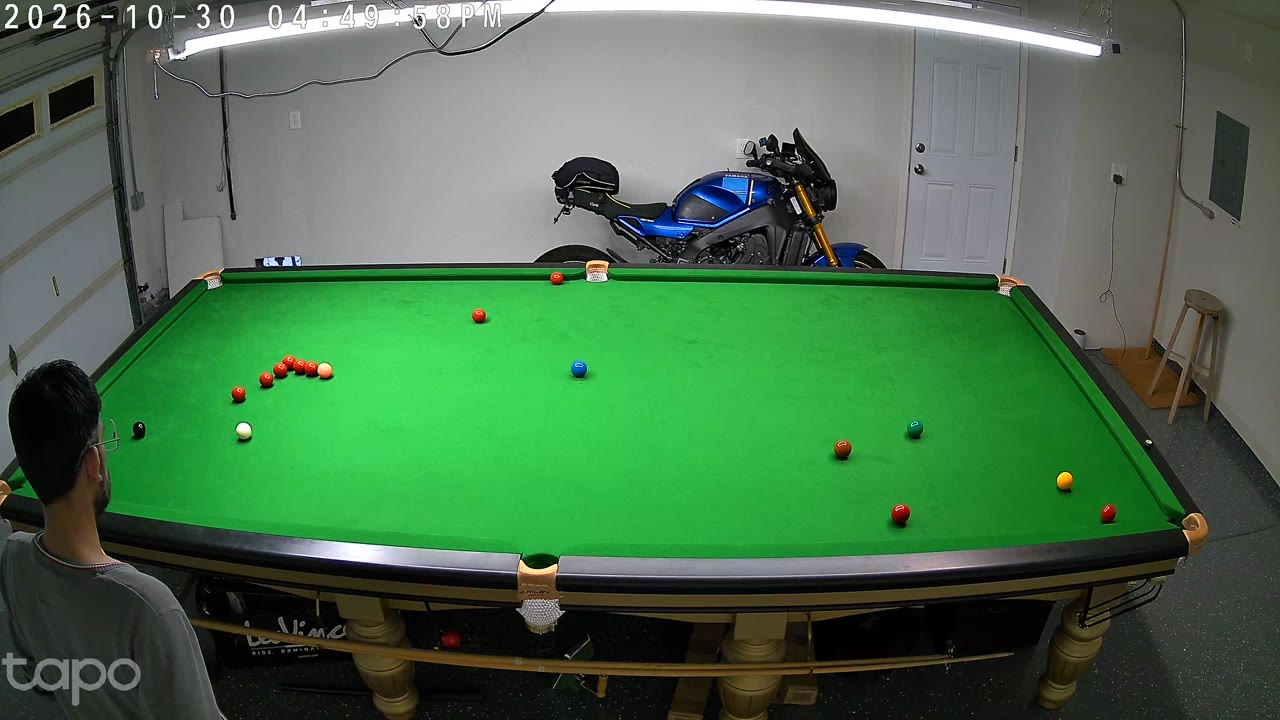black: (133, 420, 145, 440)
blue: (571, 359, 587, 381)
brown: (834, 438, 852, 461)
green: (907, 417, 923, 440)
pink: (319, 362, 332, 381)
red: (890, 501, 910, 528), (1100, 502, 1116, 527), (232, 385, 245, 405), (260, 371, 273, 391), (274, 361, 286, 381), (305, 360, 317, 379), (472, 308, 485, 325), (278, 360, 288, 379), (284, 355, 295, 372), (295, 358, 305, 376), (551, 271, 562, 287)
white: (236, 421, 252, 444)
yellow: (1056, 470, 1073, 494)
